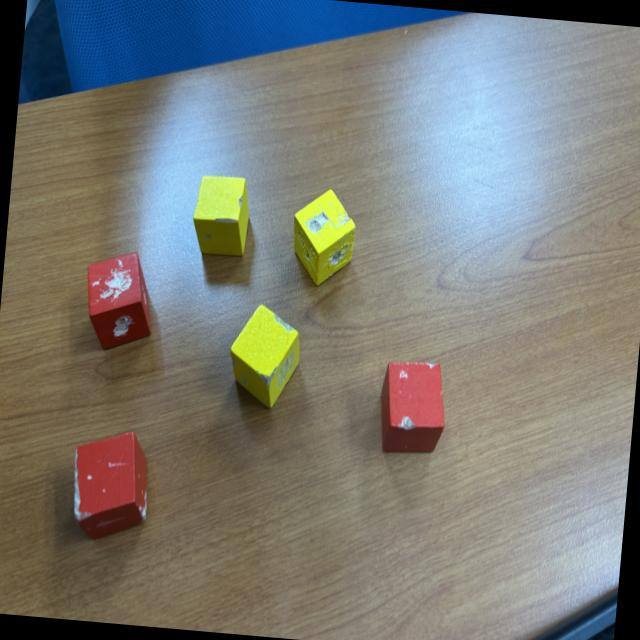broken: (67, 426, 154, 544), (224, 300, 304, 412), (80, 248, 158, 354), (287, 184, 358, 290), (374, 357, 448, 458), (190, 172, 253, 258)
